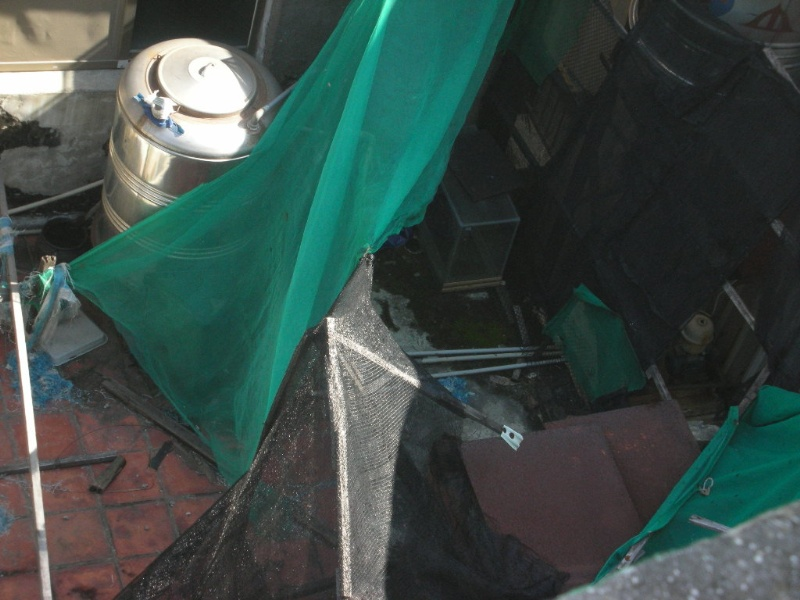water_tower: (89, 34, 286, 285)
